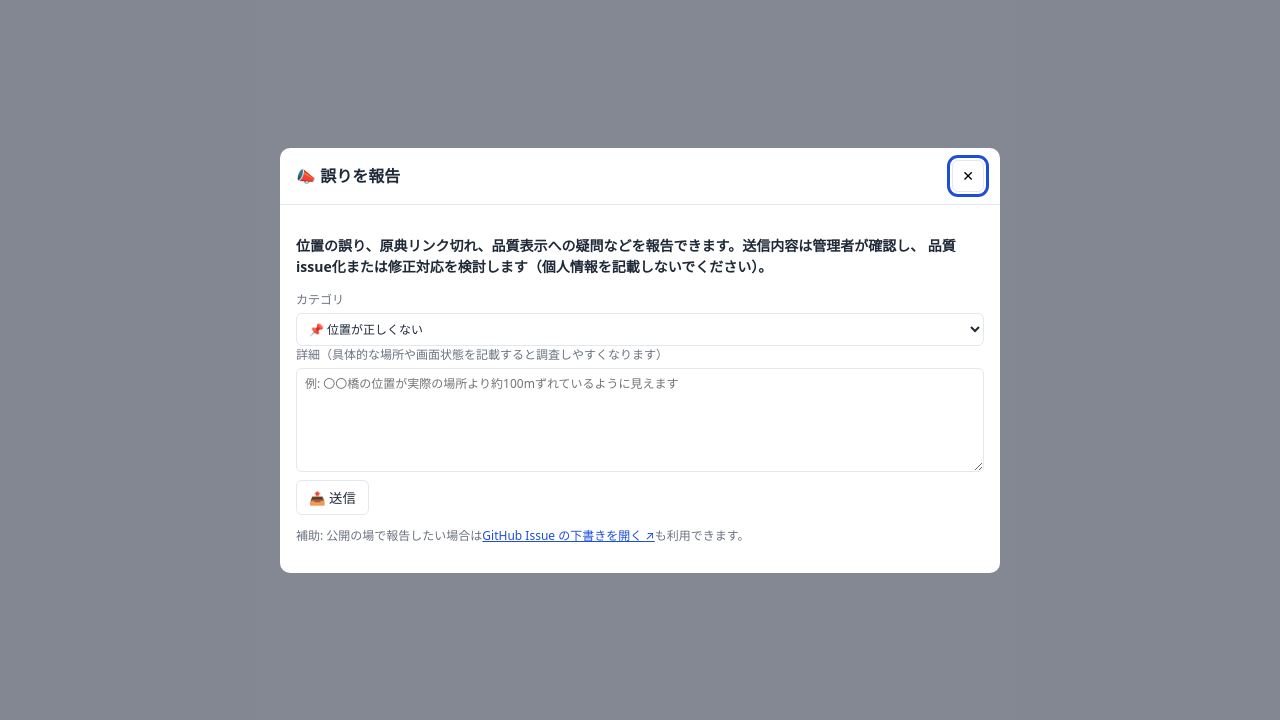
Scenario: FeedbackDialog › submits the report to the API and shows success
The image size is (1280, 720).
Select "🧹 品質表示に疑問がある" in the dropdown labelled "カテゴリ" at (640, 329), box [296, 312, 984, 346]
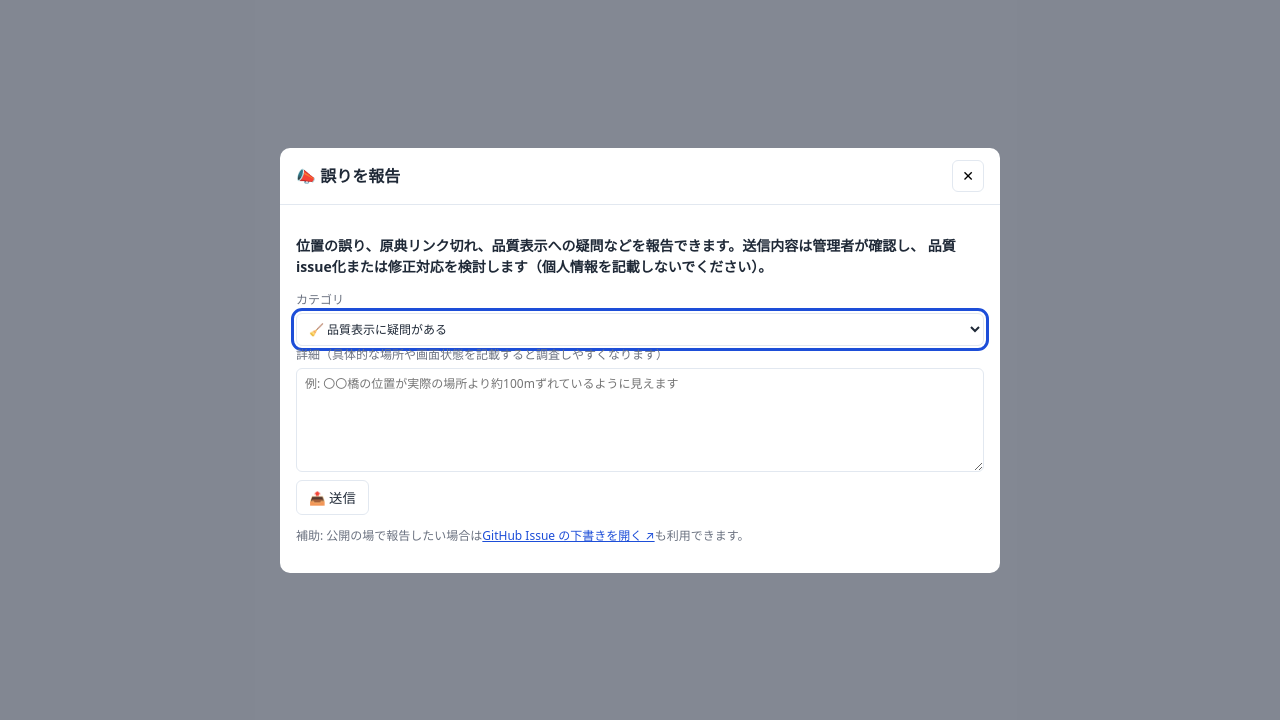
Type "品質バッジが適切に見えない" into the text box labelled "詳細（具体的な場所や画面状態を記載すると調査しやすくなります）" at (640, 420), box [296, 368, 984, 472]
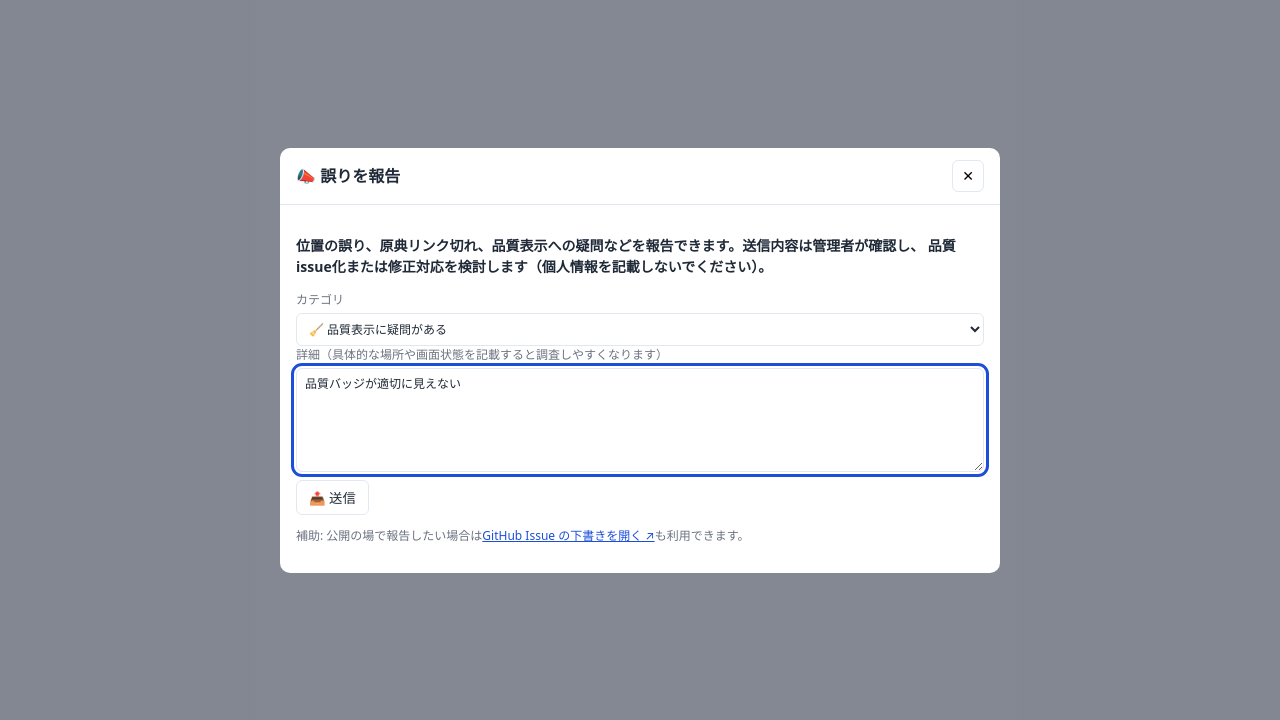
Click the button "📤 送信" at (332, 497), box [296, 480, 369, 514]
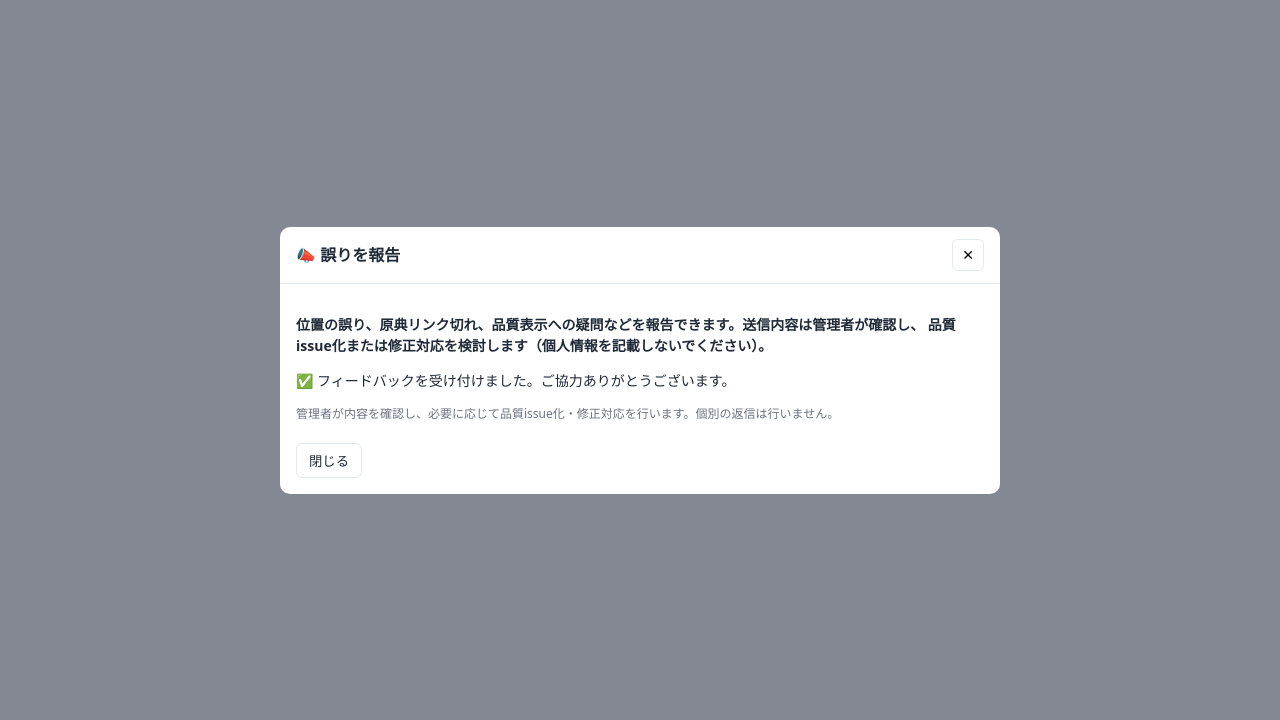
Expected: the text "✅ フィードバックを受け付けました。ご協力ありがとうございます。" is shown, [296, 370, 735, 390]
